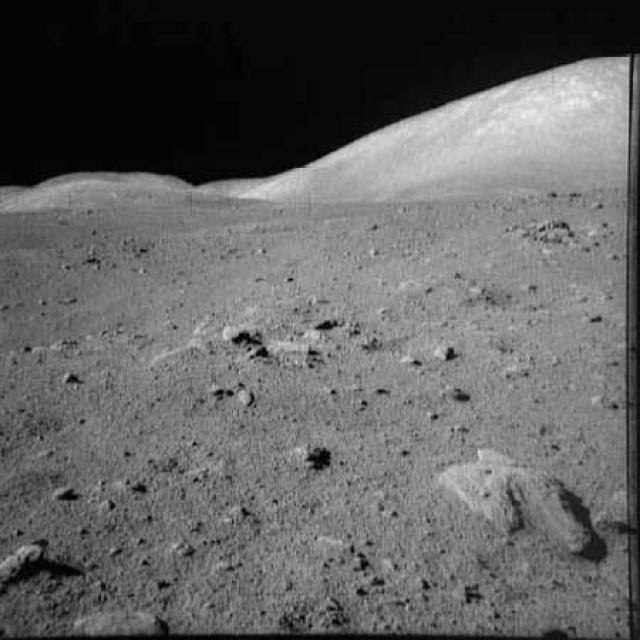crater: (478, 264, 606, 315), (2, 311, 119, 357)
rock: (431, 439, 606, 563), (71, 598, 176, 638), (0, 526, 57, 595), (506, 211, 581, 252), (263, 333, 325, 372), (286, 428, 335, 477), (223, 314, 266, 352), (431, 335, 459, 370), (441, 378, 472, 408), (390, 346, 419, 372)
